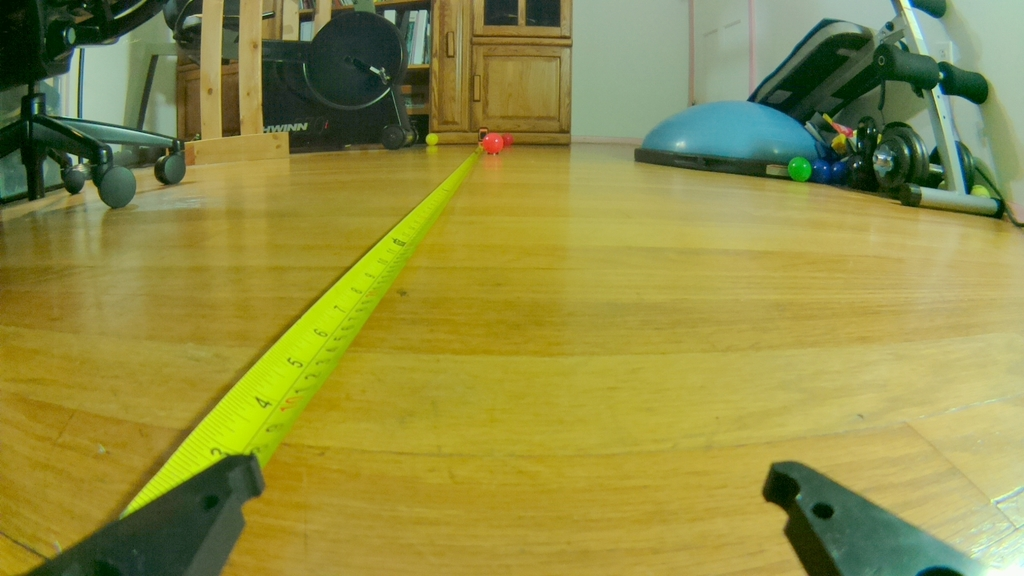ball: (479, 132, 504, 156)
